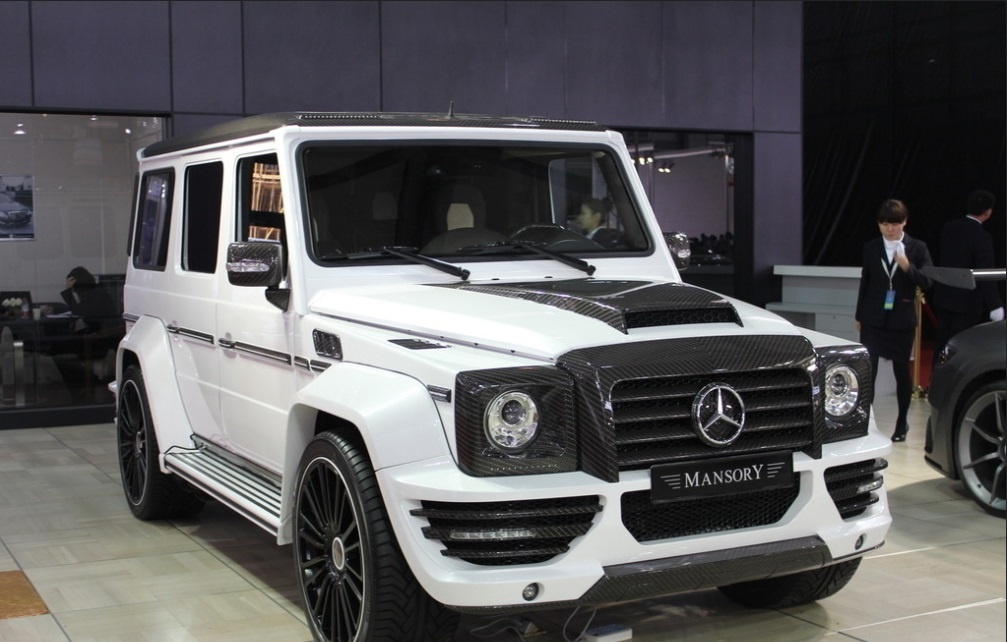jeep: (78, 96, 897, 642)
